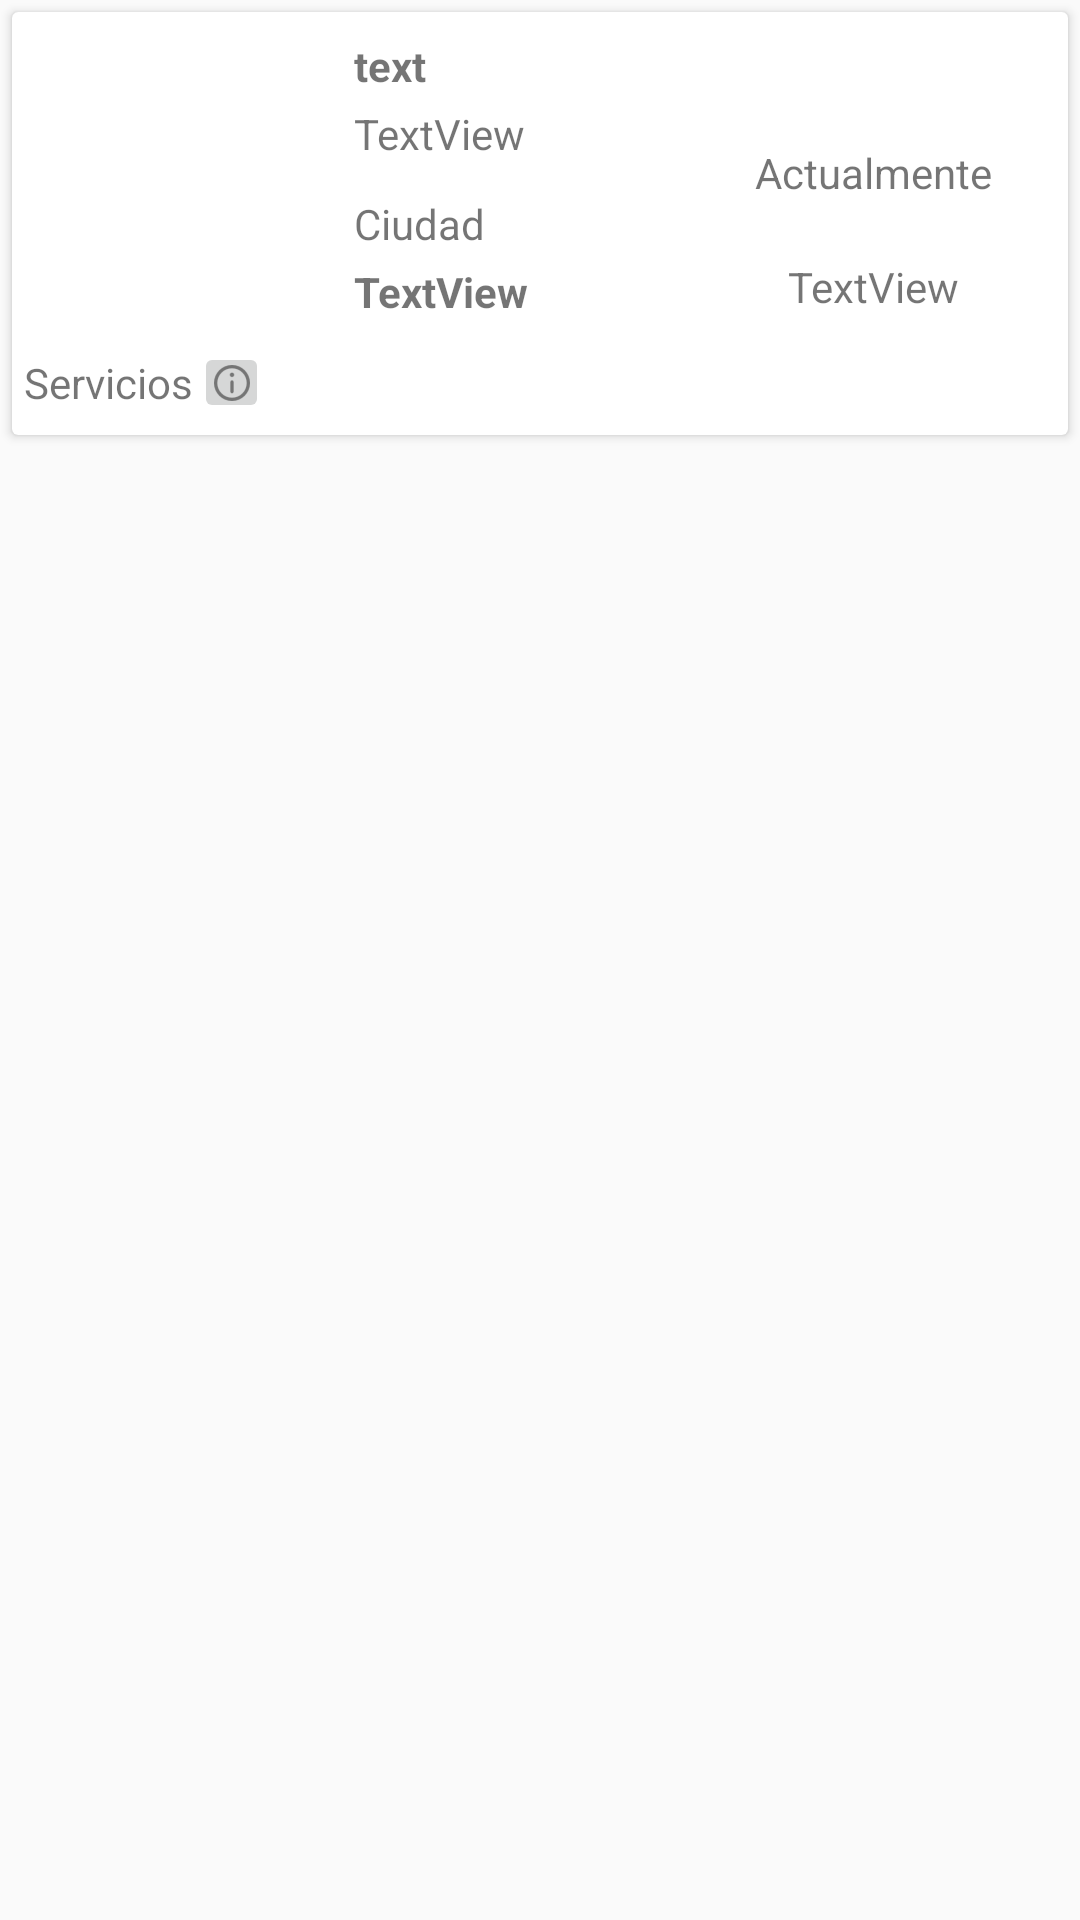

Icon click points for this 1080 x 1920 phone screenshot, format (x=x, y=y):
informacion: (x=231, y=382)
